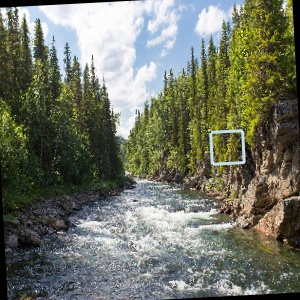square: (204, 127, 249, 168)
